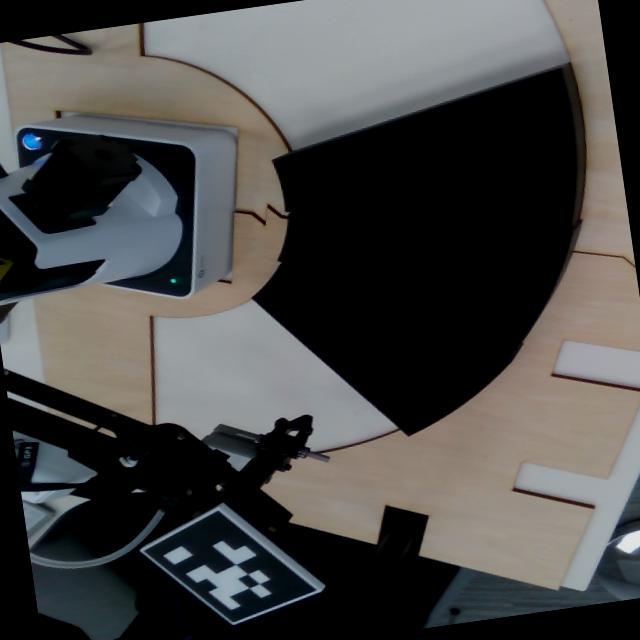box: (224, 255, 530, 466), (263, 49, 588, 233), (266, 202, 592, 344)
